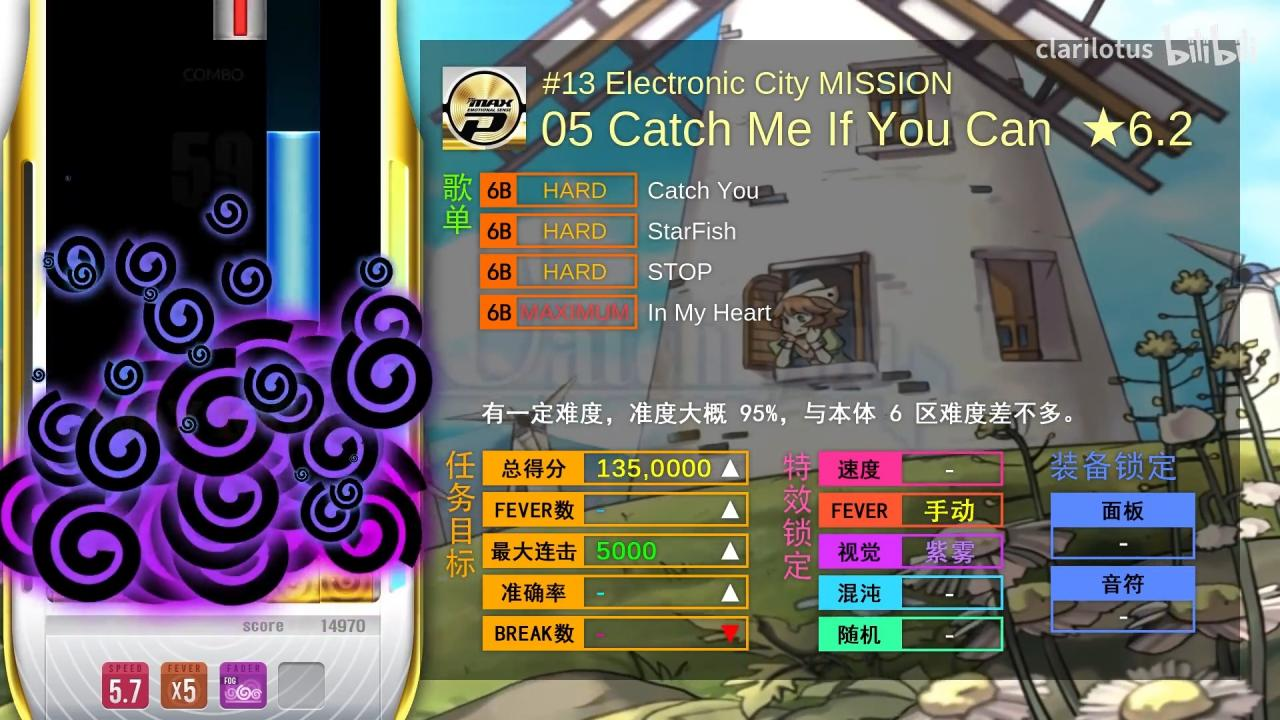hold-end: (267, 131, 320, 148)
hold-start: (214, 23, 268, 40)
